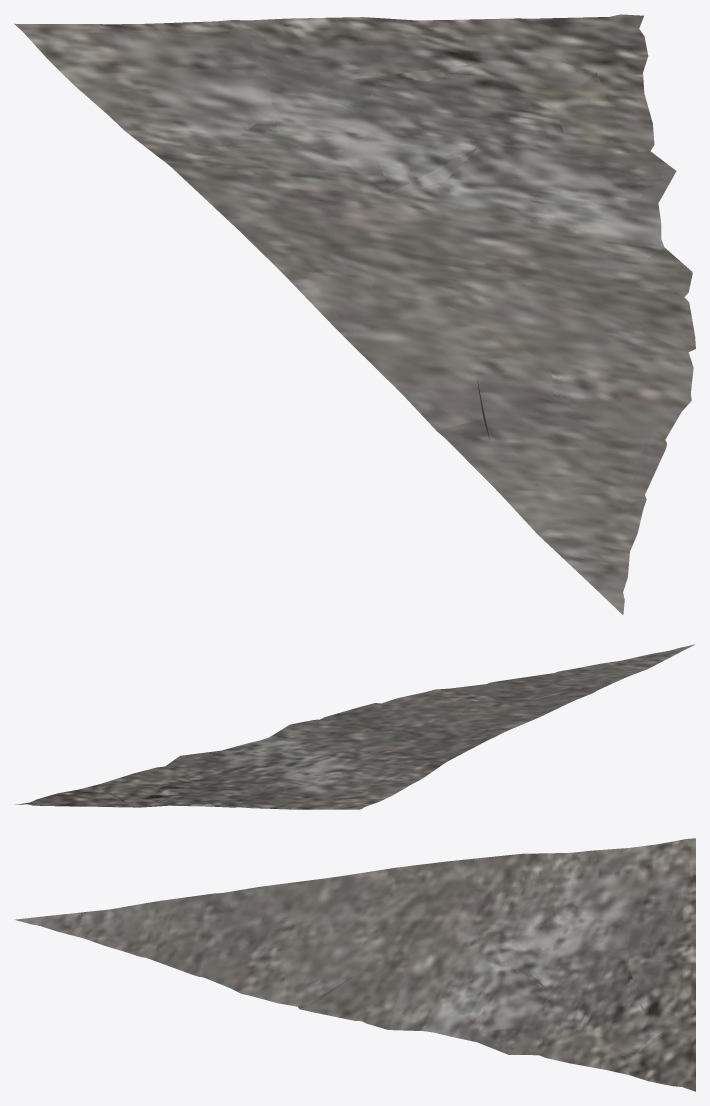
The picture shows the model from 3 angles, top to bottom: view 1: azimuth 30°, elevation 25°; view 2: azimuth 150°, elevation 25°; view 3: azimuth 270°, elevation 25°; orthographic projection. The views are drawn at different scales.
Size of the model in its own units: 0.4792 by 0.1059 by 0.8025.
Materials: 1 (1 with a texture image).
